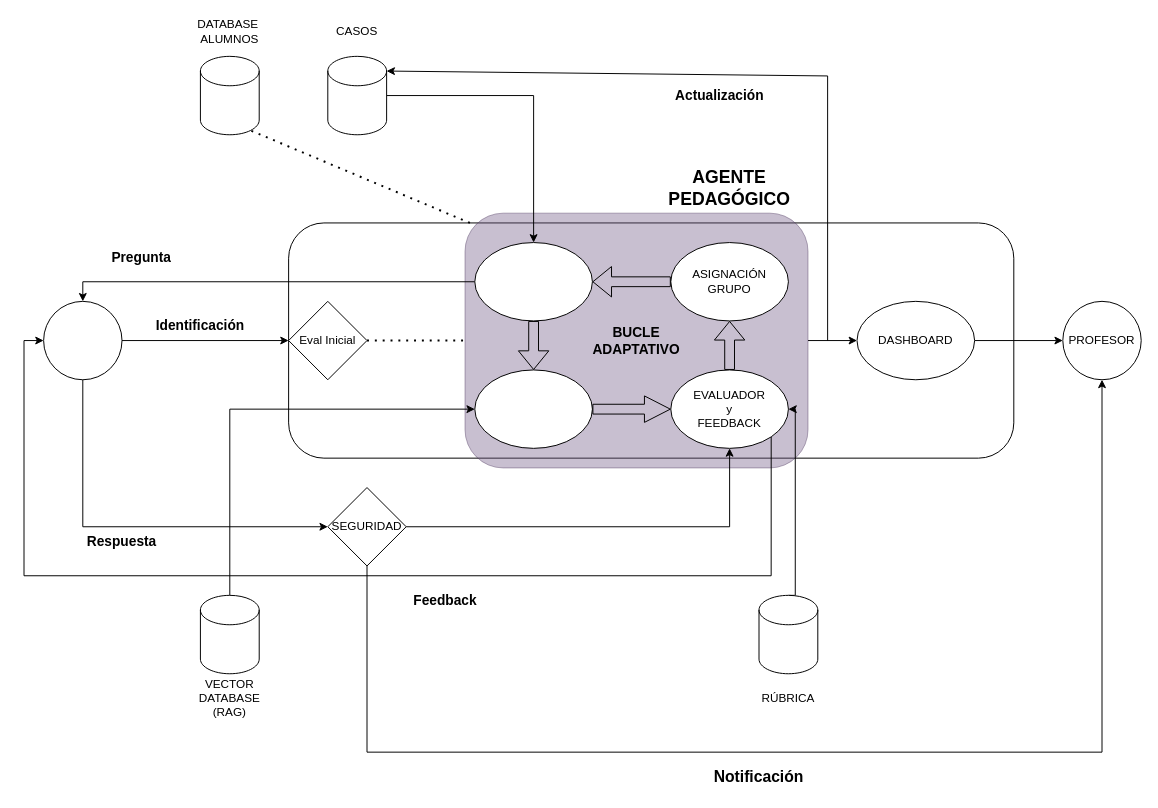
Image size: 1158x808. Some labels were removed from this diagram. Here are the shapes that lost their labels. From the top down, the centre of each, then its label:
At (x=533, y=281): "SELECTOR TAREAS".
At (x=82, y=340): "ALUMNOS".
At (x=533, y=408): "RAG".
